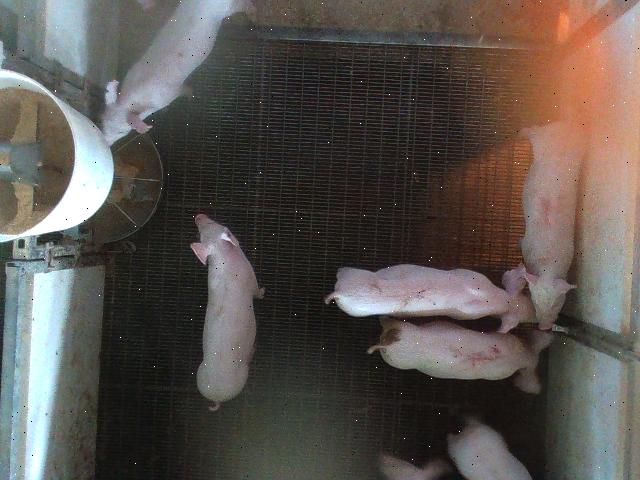pig-4: (521, 122, 584, 330)
pig-5: (368, 317, 554, 394)
